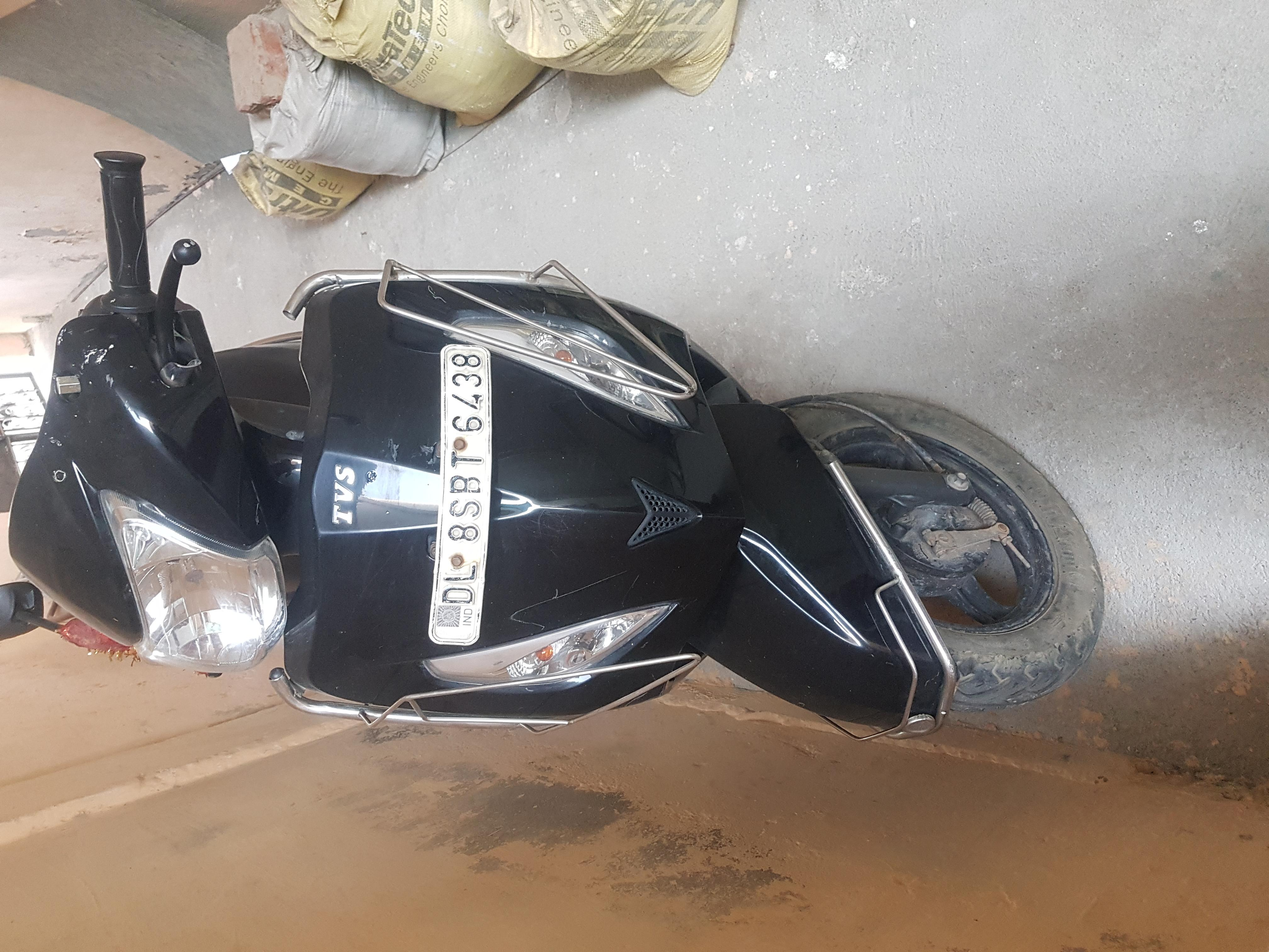number_platerotation: (404, 320, 817, 370)
